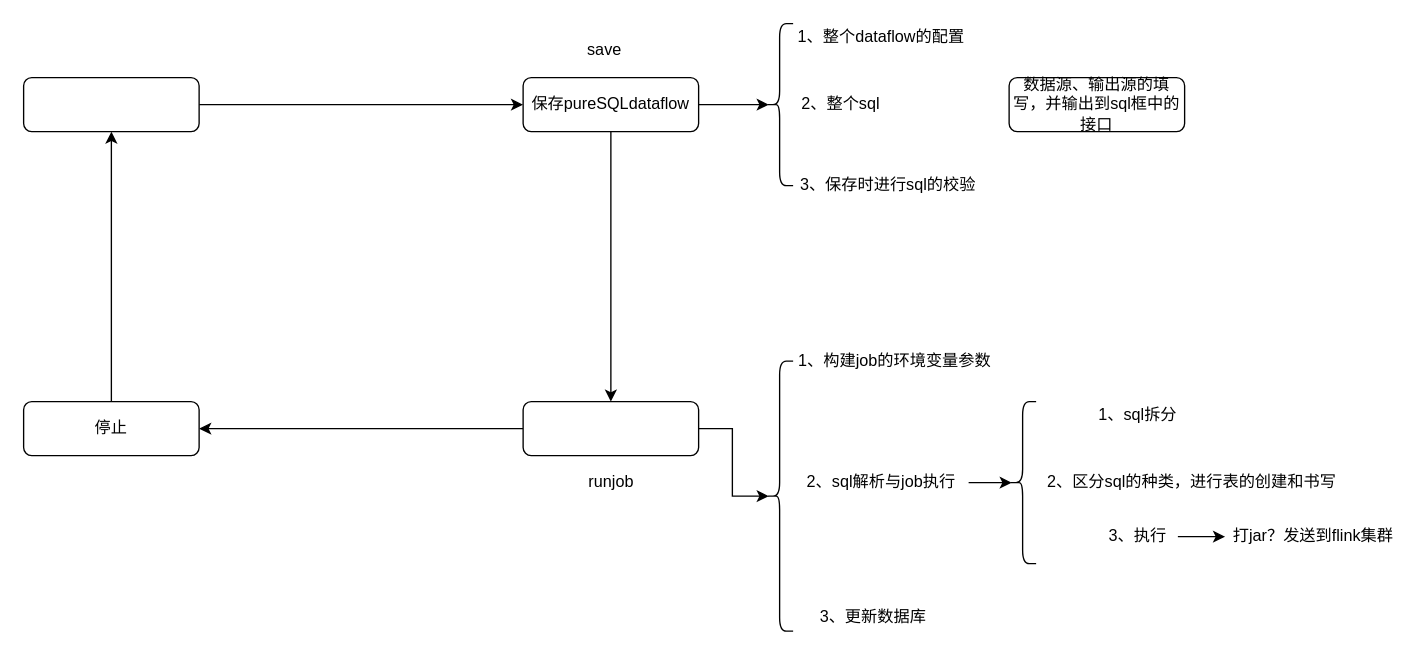
Some shapes in this 1424 by 655 pixel diagram are drawn without their labels. The centre of each missing label's shape, as x and y in pixels:
"修改" belongs at pixel 110 104.
"根据dataflow构建执行的流程" belongs at pixel 610 428.
